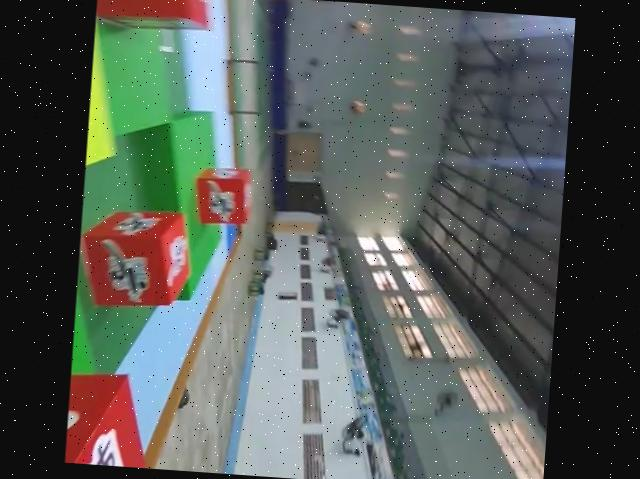R1: (76, 201, 197, 311), (195, 164, 253, 224)
R2 Fake: (64, 368, 155, 468), (95, 0, 214, 31)
